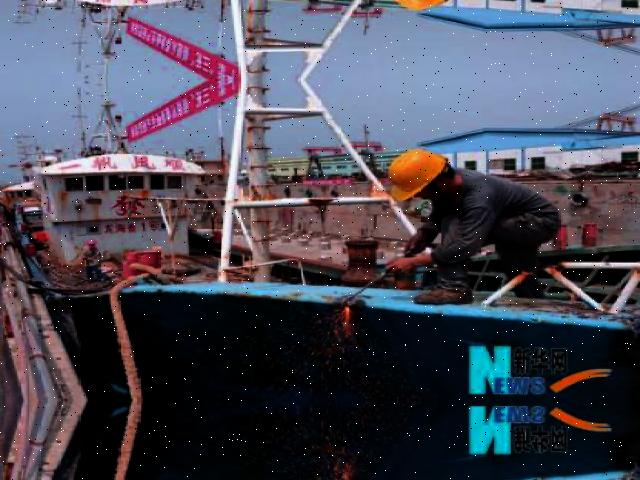Helmet: (381, 144, 452, 206)
